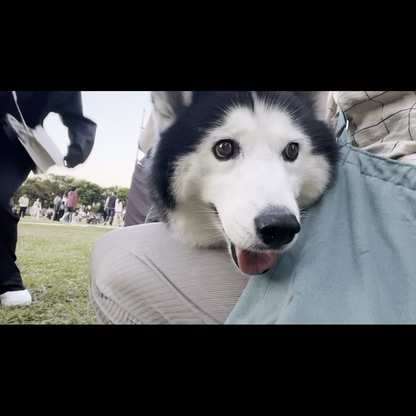husky: (136, 92, 347, 285)
